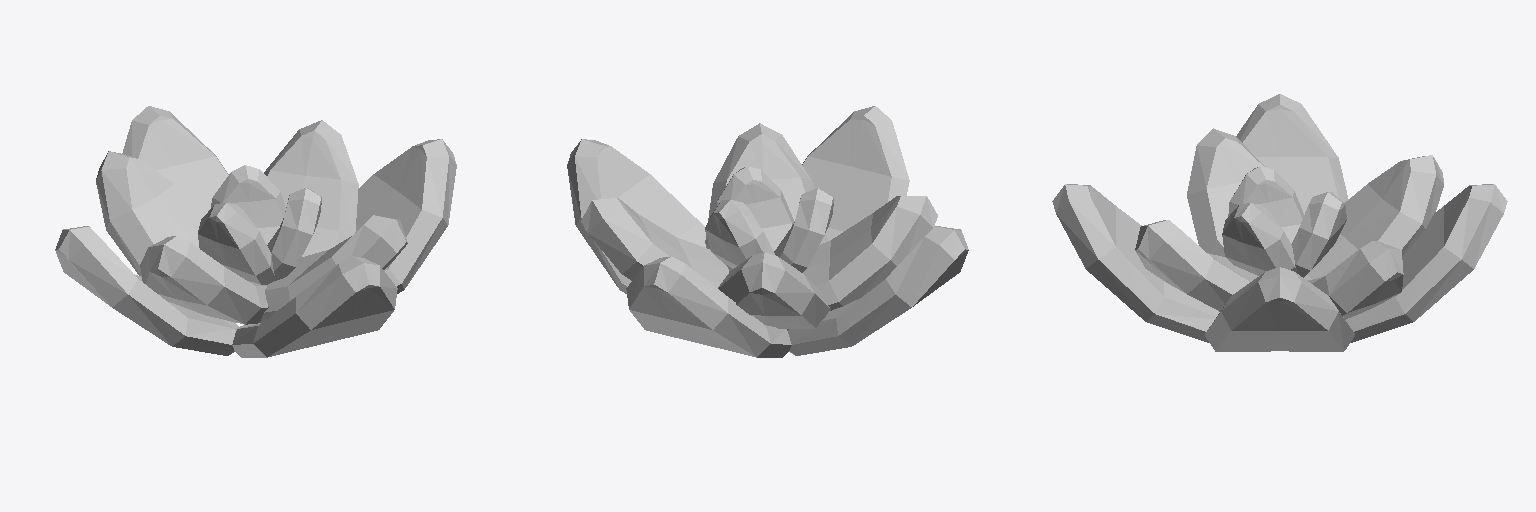
File: succulent_A.obj
3 renders of one model, left to right at view 1: azimuth 30°, elevation 25°; view 2: azimuth 150°, elevation 25°; view 3: azimuth 270°, elevation 25°, orthographic.
Parts seen in each view (by area): view 1: succulent_A; view 2: succulent_A; view 3: succulent_A.
Part boxes in pixels (bbox=[...]): succulent_A: bbox=[55, 106, 456, 357]; succulent_A: bbox=[567, 106, 968, 357]; succulent_A: bbox=[1052, 94, 1507, 351].
Bounding box in the file's own units: 0.626 × 0.2174 × 0.626.